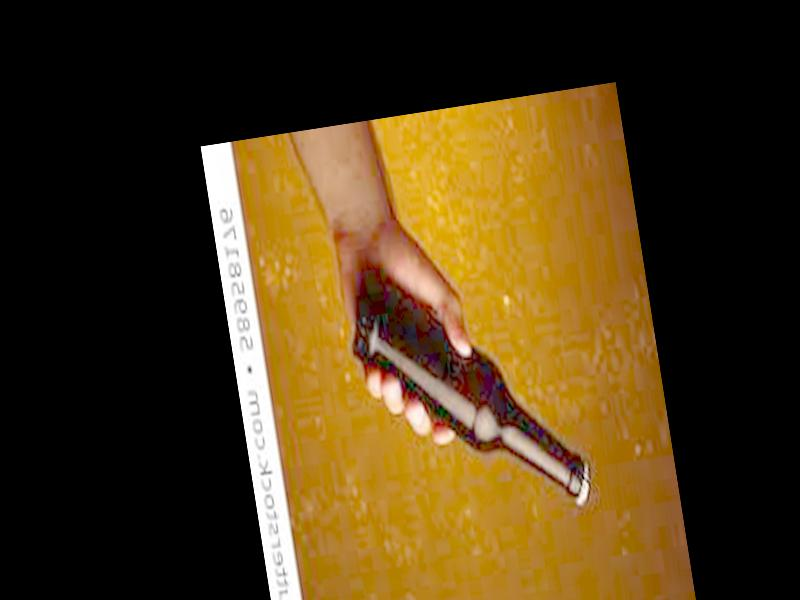Beer: (339, 230, 596, 540)
